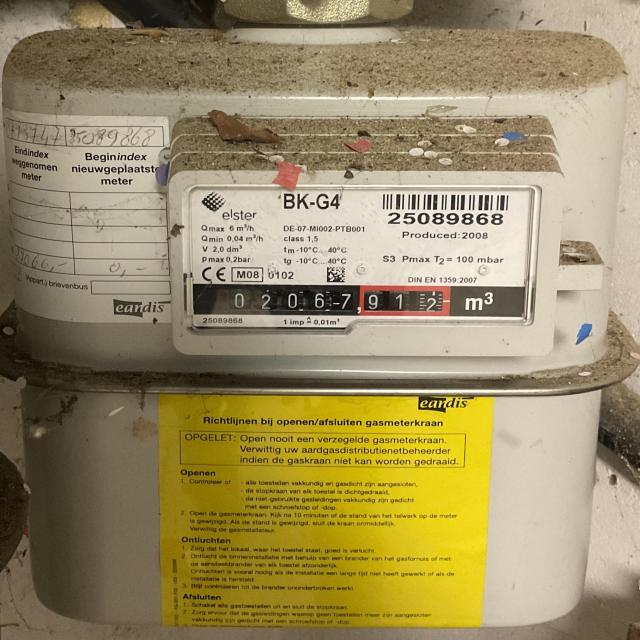gaz_meter: (187, 182, 538, 326)
indication: (220, 285, 452, 315)
